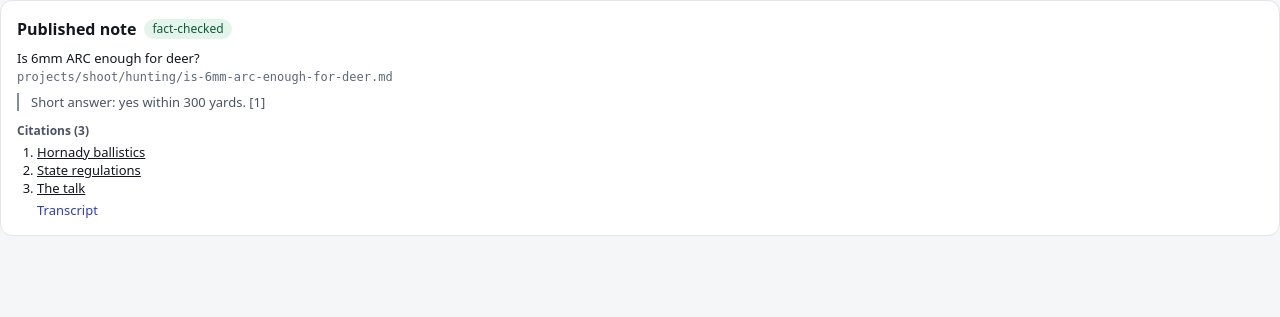
Test: published note panel › shows a Transcript expander on a video citation that has one and loads its text
Click the button "Transcript" at [67, 210], box [37, 201, 98, 219]
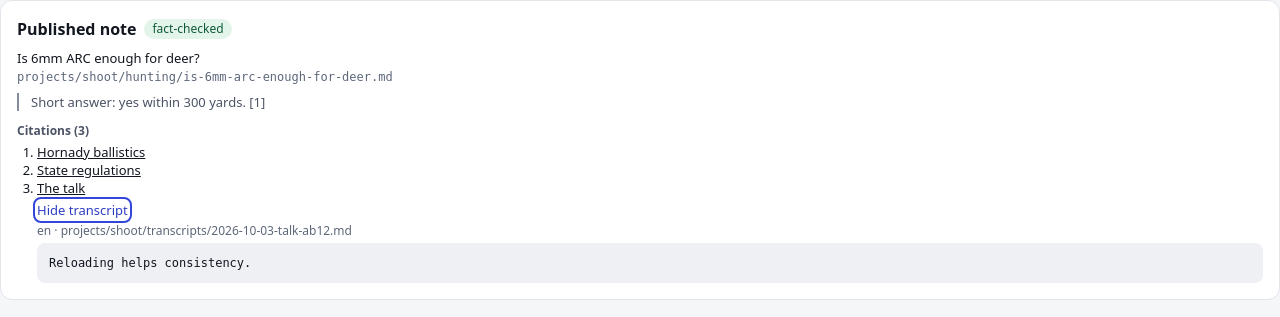
Result: the text with test id "transcript-text" reads "Reloading helps consistency." at [49, 256, 251, 270]
